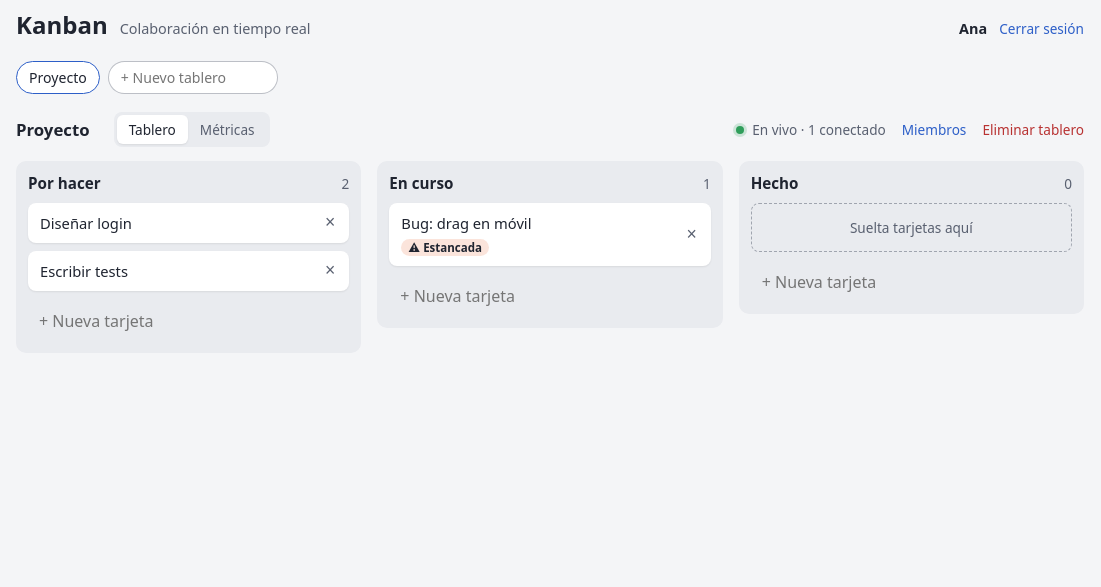
Test case: tablero › cerrar sesión desconecta el socket y vuelve al login
expect the text "Diseñar login" is shown: met, box [40,213,132,233]
Click the button "Cerrar sesión": {"x": 1042, "y": 28} [999,19,1084,38]
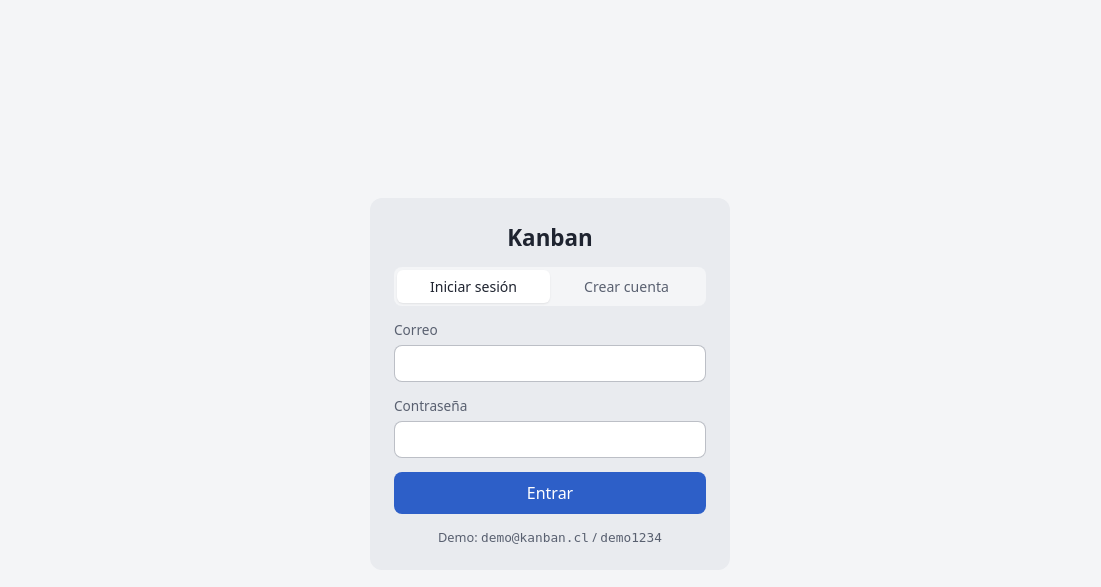
expect the button "Entrar" is shown: met, box [394,472,706,514]
